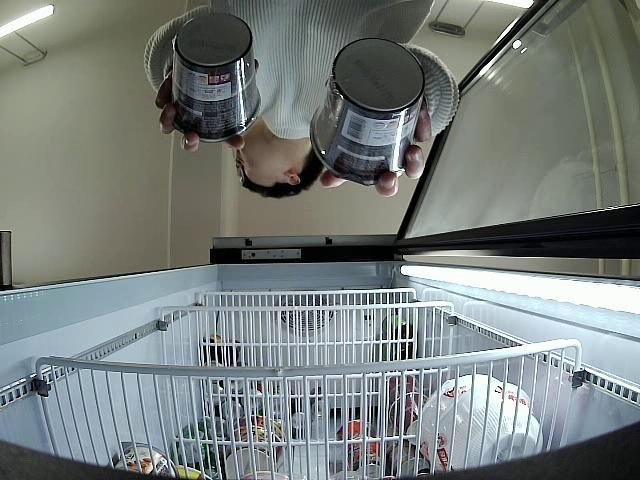08_buldak_S: (310, 38, 424, 186), (170, 13, 262, 144)
